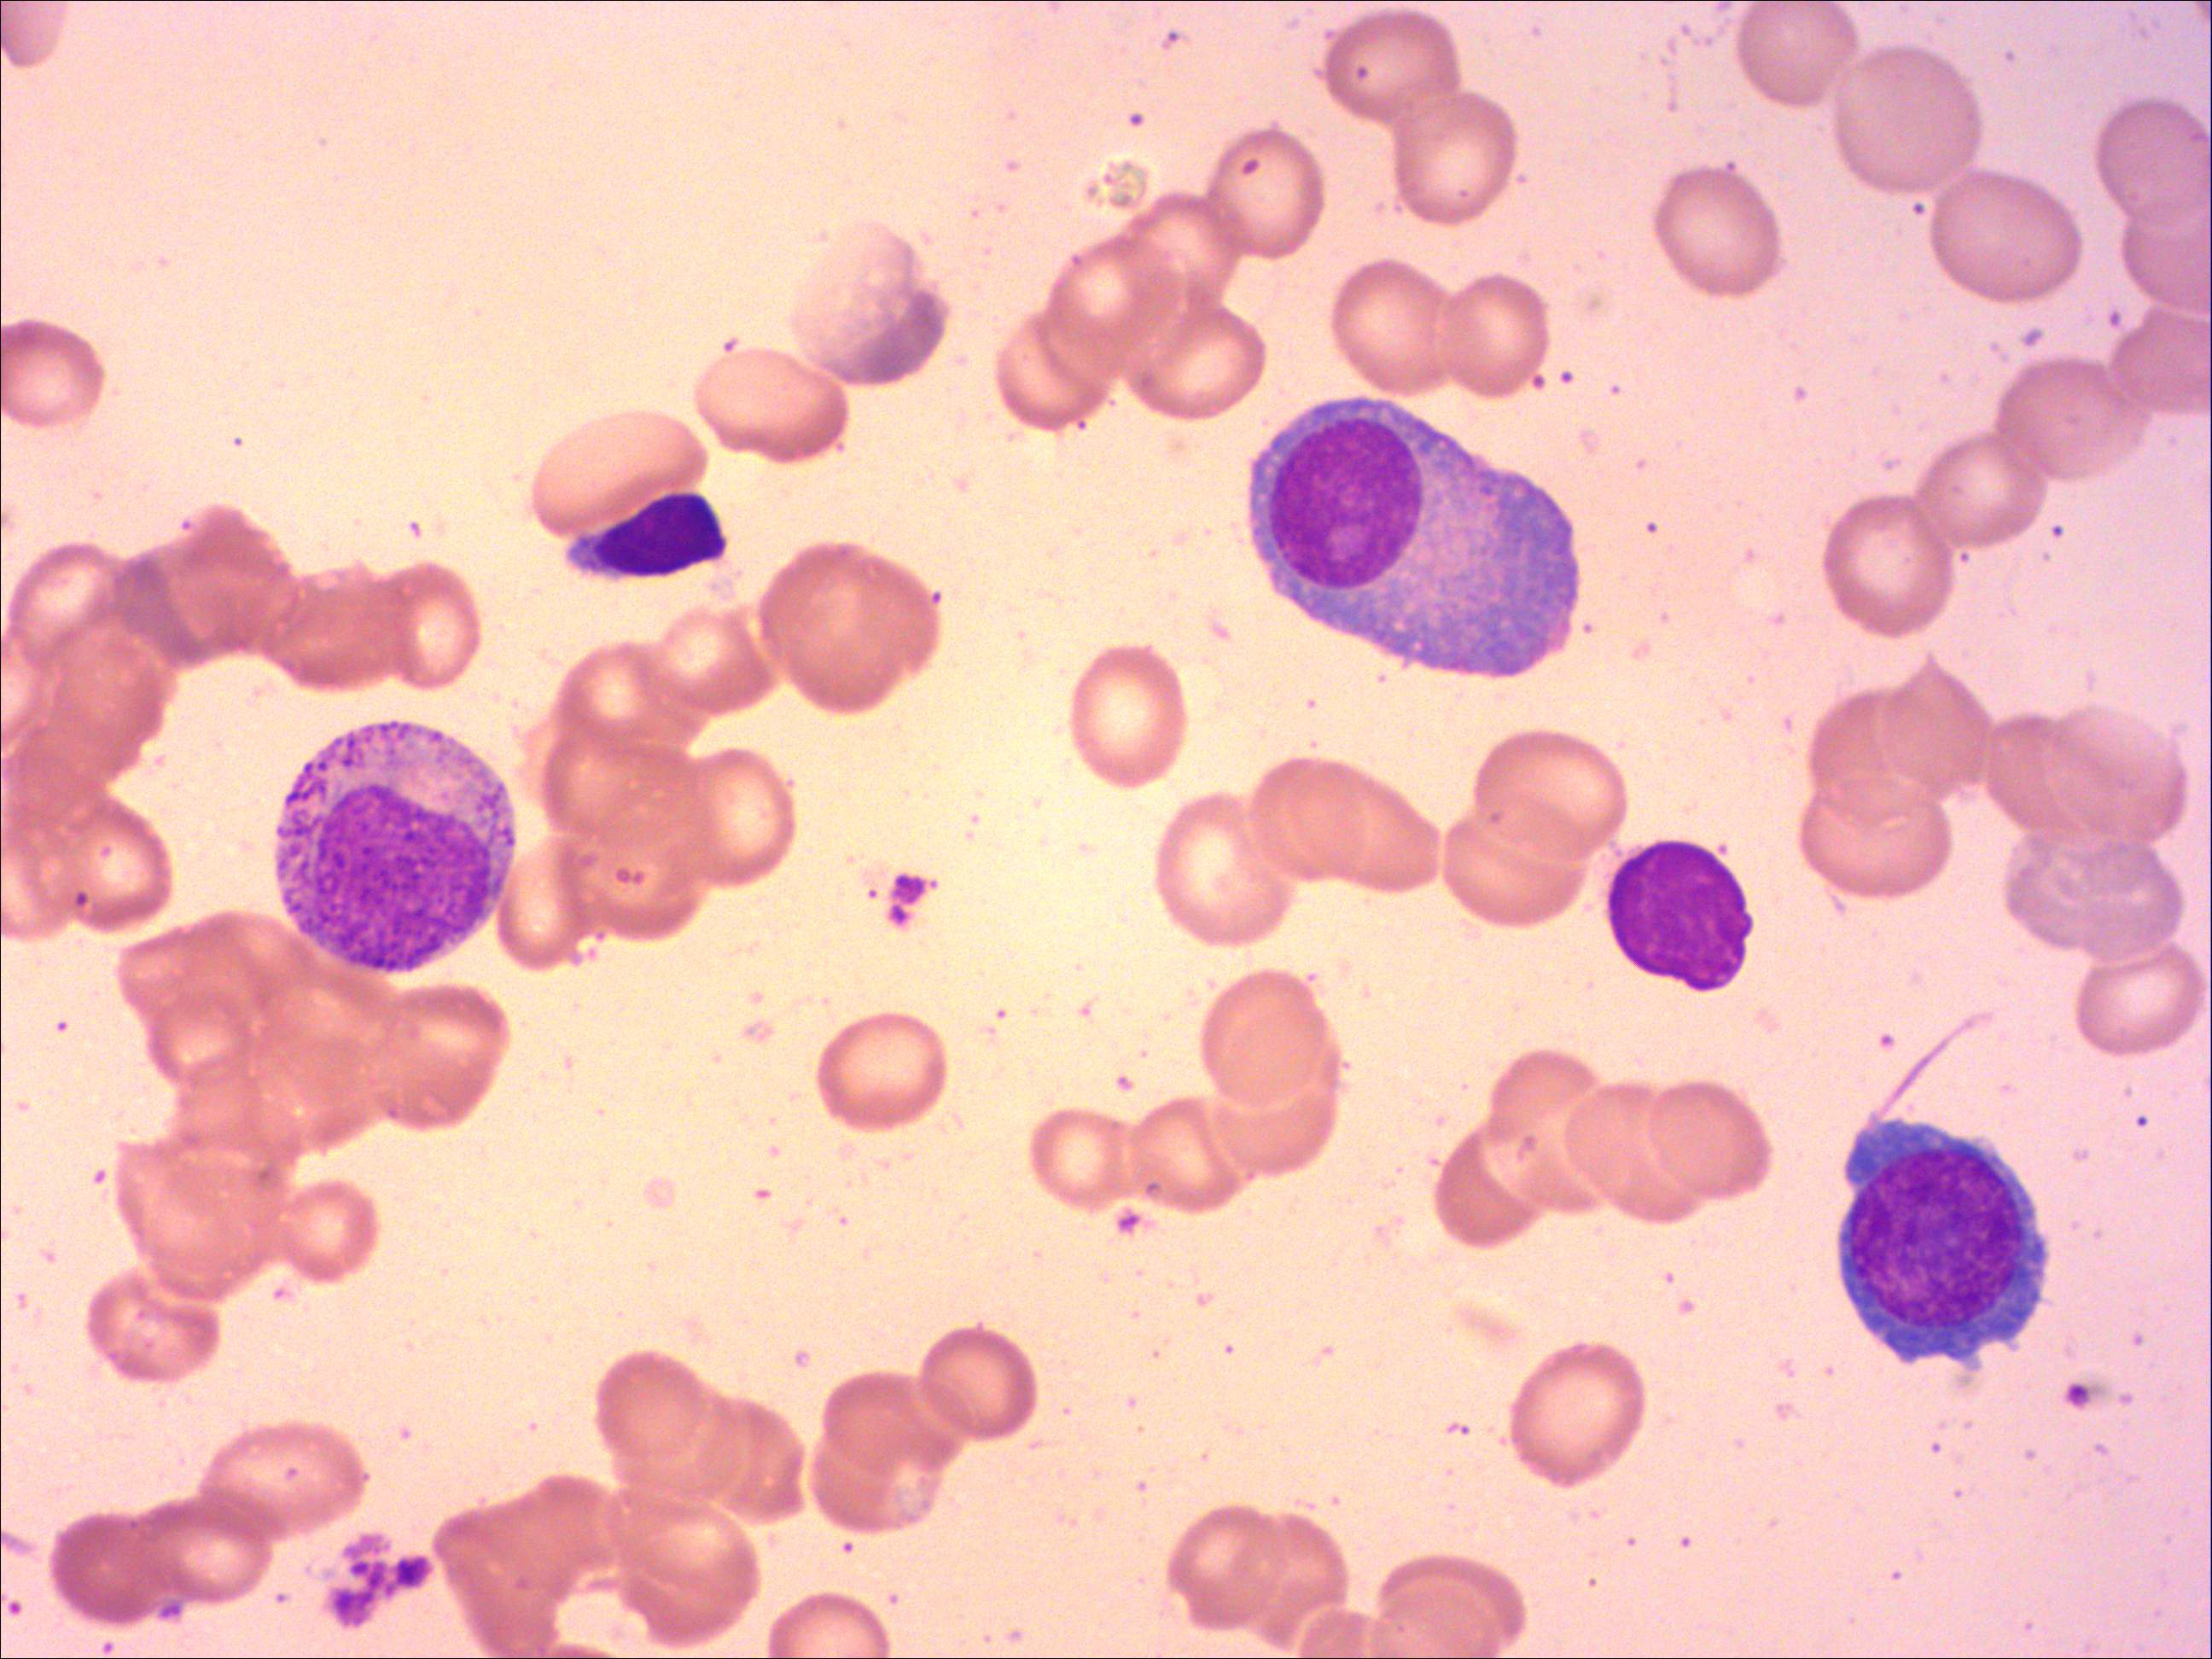21: (1832, 1115, 2052, 1380)
23: (268, 714, 519, 976)
51: (1242, 390, 1585, 687)
x: (1604, 836, 1757, 999), (559, 484, 732, 584)
